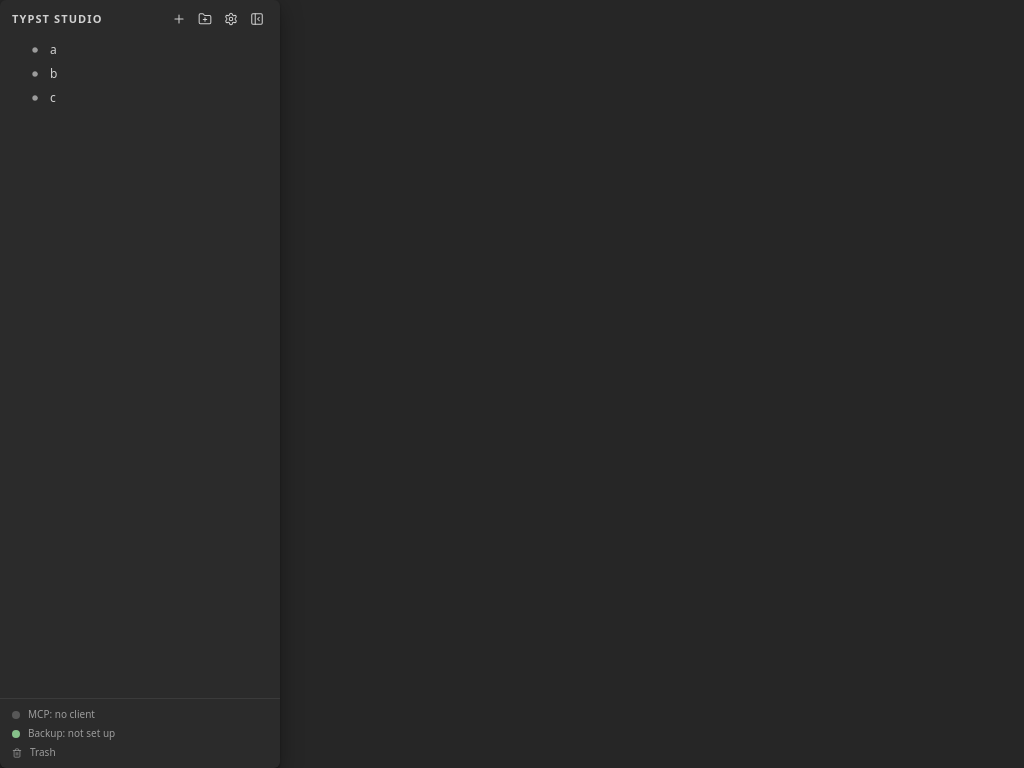
it: Sidebar delete menu and dialogs › shows no "+N more" when 5 or fewer are selected
Click the button with test id "workspace-a".
click(35, 50)  # box [8, 38, 272, 62]
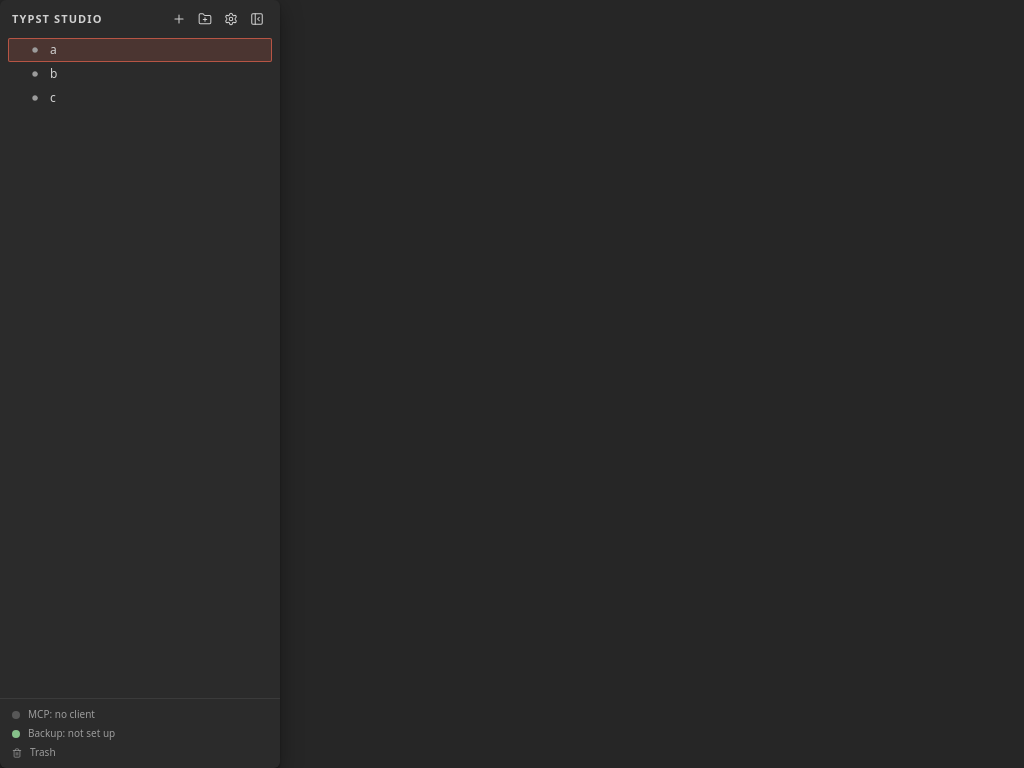
Click the button with test id "workspace-b".
click(35, 74)  # box [8, 62, 272, 86]
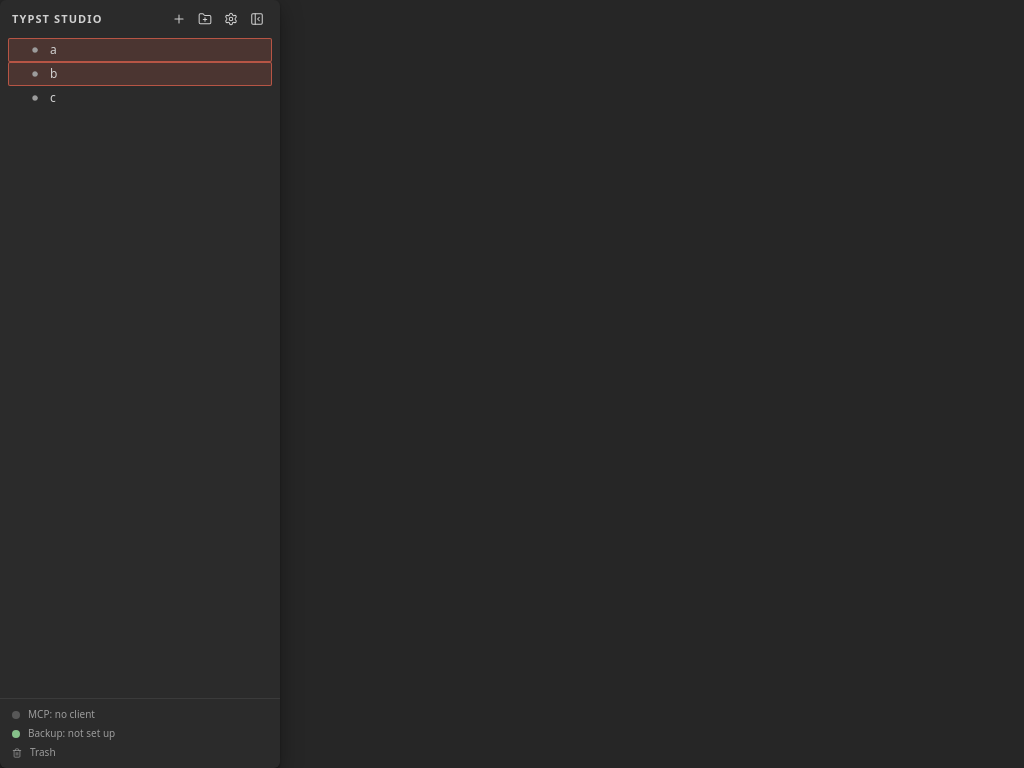
Right-click the button with test id "workspace-a".
right_click(35, 50)  # box [8, 38, 272, 62]
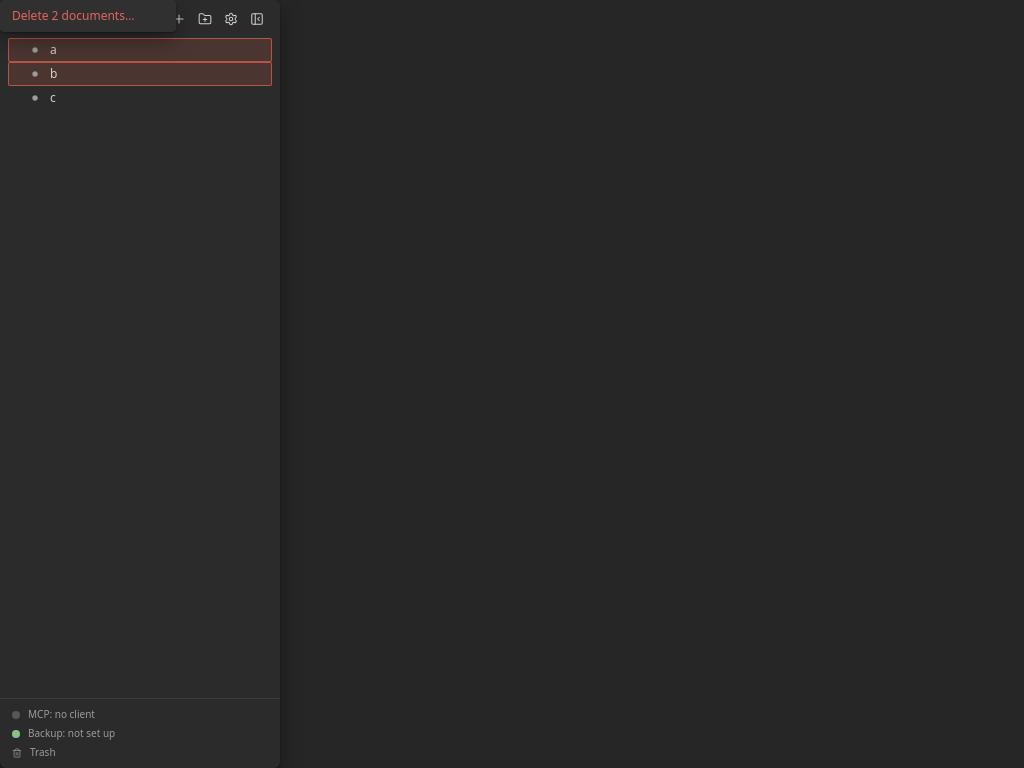
Click the button "Delete 2 documents…".
click(88, 16)  # box [4, 4, 172, 28]
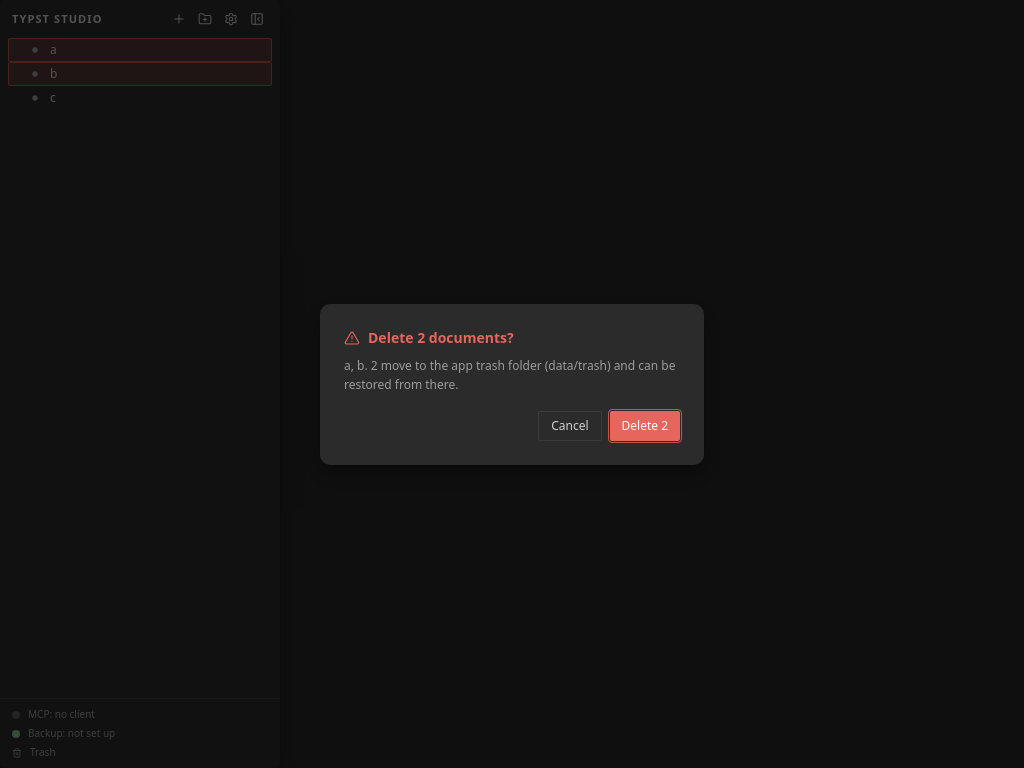
expect the dialog is shown: met, box [320, 304, 704, 464]
